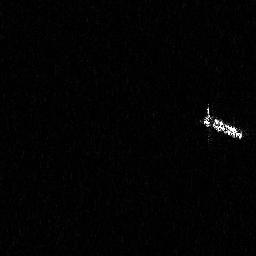ship: (196, 103, 244, 146)
